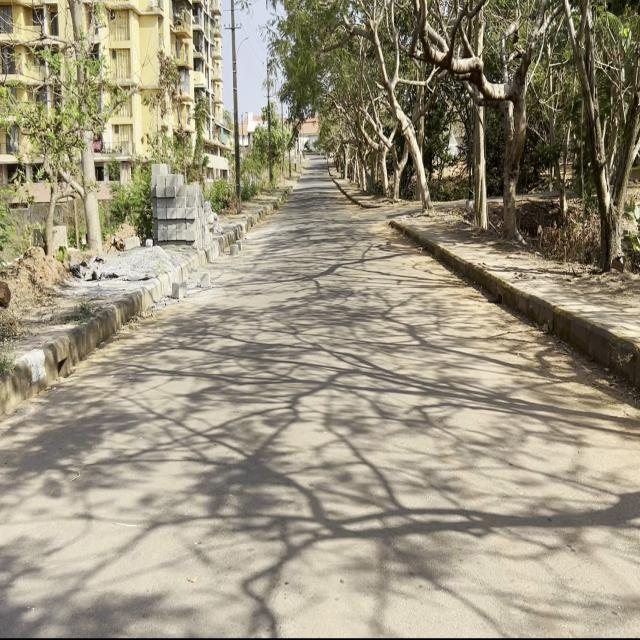Road: (0, 158, 640, 639)
